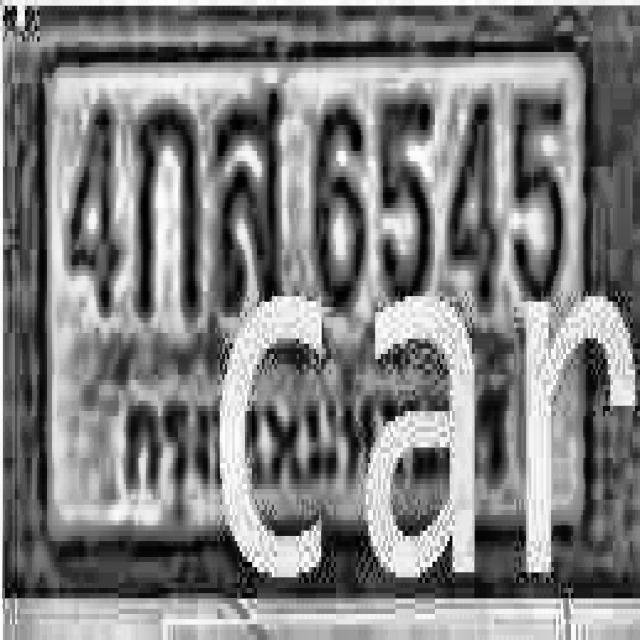license-plate: (2, 6, 640, 594)
